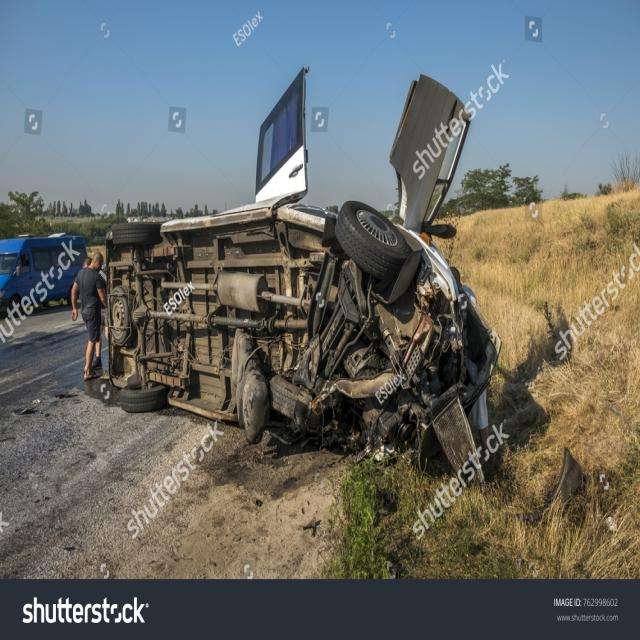Accident: (77, 158, 503, 496)
